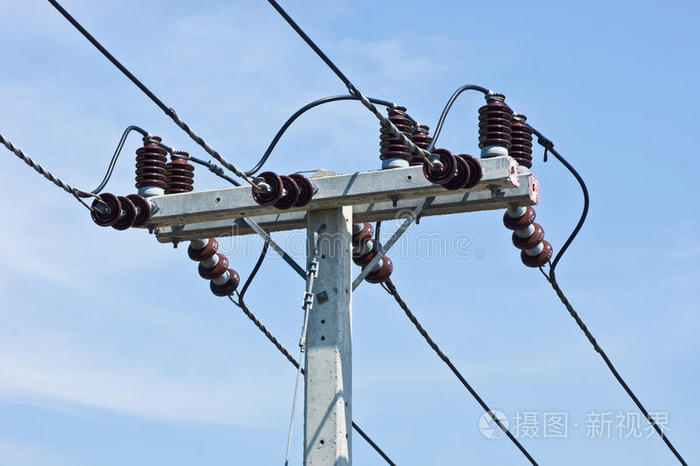insulator: (501, 202, 557, 270), (188, 237, 238, 300), (418, 144, 483, 190), (351, 219, 393, 288), (88, 190, 150, 232), (254, 167, 311, 209)
